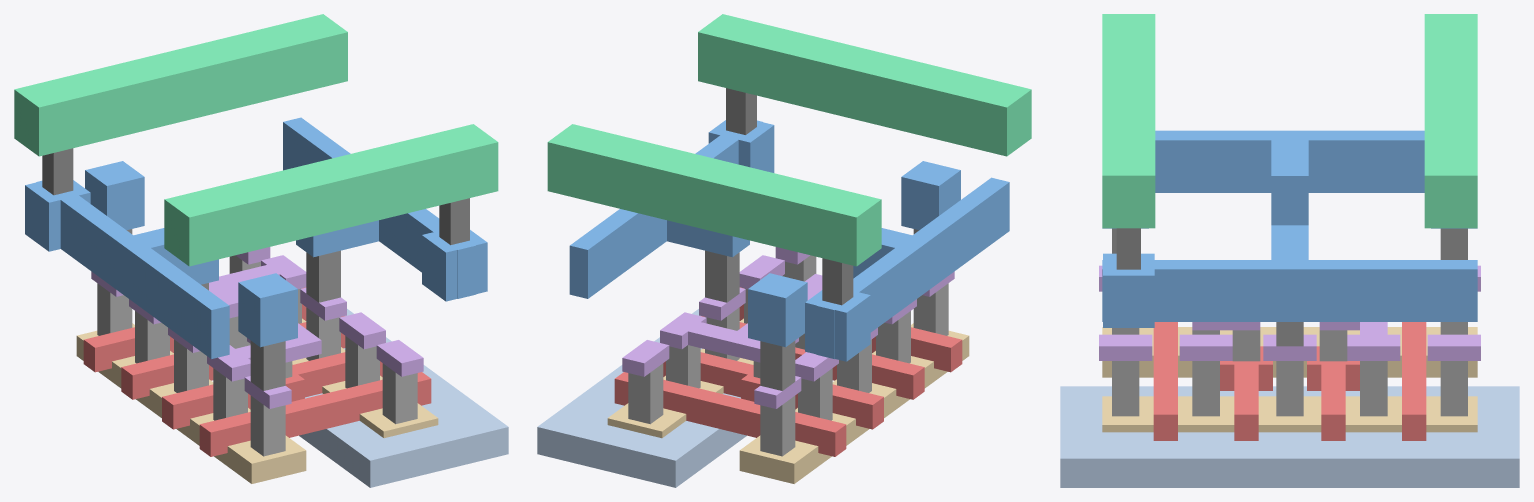
Rendered from bitcell_3d.glb.
3 renders of one model, left to right at view 1: azimuth 30°, elevation 25°; view 2: azimuth 150°, elevation 25°; view 3: azimuth 270°, elevation 25°, orthographic. The views are drawn at different scales.
Visible parts, largest first — view 1: met2, met1, poly, licon, nwell, li1, diff, mcon, via; view 2: met2, met1, poly, licon, nwell, li1, diff, mcon, via; view 3: met1, nwell, met2, poly, diff, licon, li1, mcon, via.
Boxes of the visible parts, <box> form: met2: <box>14,14,498,266</box>; met1: <box>25,117,487,358</box>; poly: <box>83,287,431,456</box>; licon: <box>97,255,417,456</box>; nwell: <box>299,309,508,487</box>; li1: <box>91,247,423,408</box>; diff: <box>76,318,438,483</box>; mcon: <box>127,229,340,390</box>; via: <box>42,148,469,245</box>; met2: <box>547,14,1031,266</box>; met1: <box>569,120,1009,361</box>; poly: <box>614,287,962,456</box>; licon: <box>628,255,948,456</box>; nwell: <box>537,309,746,487</box>; li1: <box>622,247,954,408</box>; diff: <box>607,318,969,483</box>; mcon: <box>705,229,918,390</box>; via: <box>726,88,853,305</box>; met1: <box>1102,130,1477,327</box>; nwell: <box>1060,386,1519,487</box>; met2: <box>1102,14,1477,228</box>; poly: <box>1153,322,1426,440</box>; diff: <box>1102,327,1477,432</box>; licon: <box>1112,322,1467,416</box>; li1: <box>1099,265,1480,360</box>; mcon: <box>1112,228,1467,346</box>; via: <box>1116,228,1140,269</box>.
Size of the model in its own units: 23.75 by 21.7 by 28.5.
